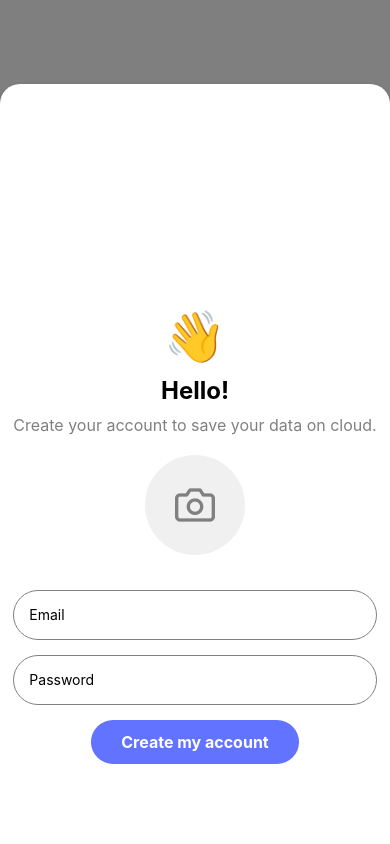
Test: RegisterScreen › handles registration error
(page scrolled)
Type "test@example.com" into the field with test id "email-input" at (195, 615), box [13,590,377,640]
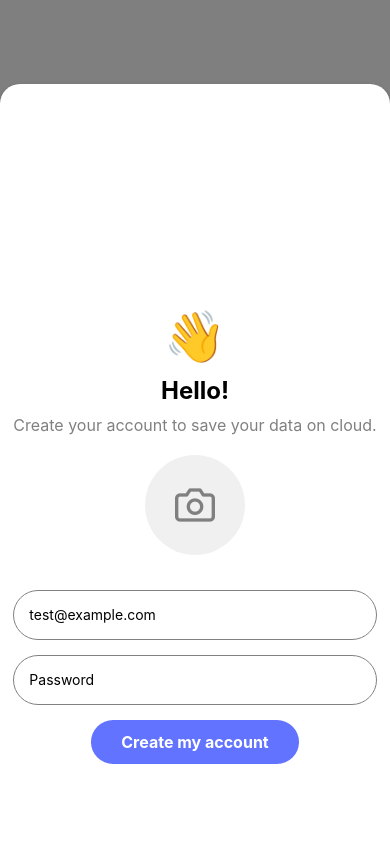
Type "password123" into the password field with test id "password-input" at (195, 680), box [13,655,377,705]
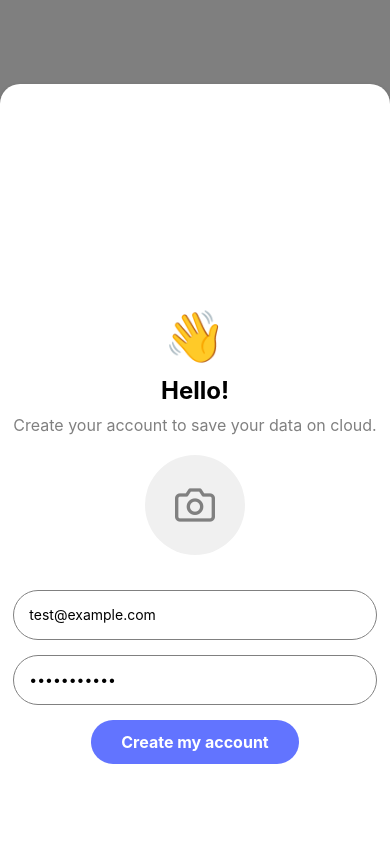
Click the text "Create my account" at (195, 742), box [121,732,269,752]
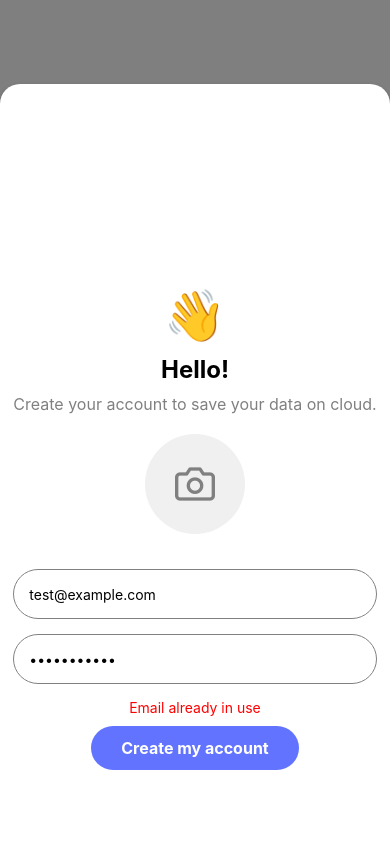
Check: the text "Email already in use" is shown, box [129,699,261,716]
